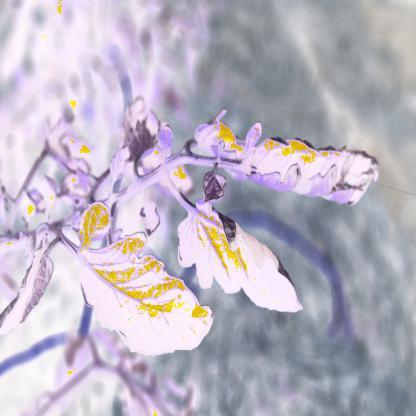Tomato leaf bacterial spot: (66, 224, 214, 362), (222, 116, 386, 210), (181, 198, 302, 315)
